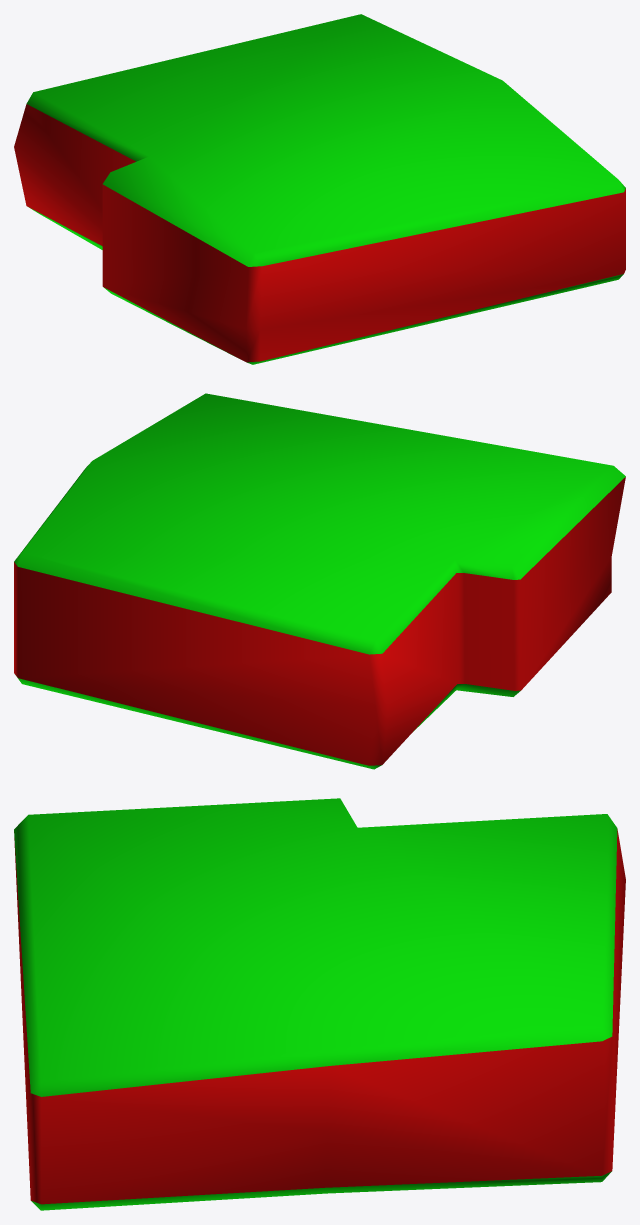
Rendered from M_Ressource_Block_C.FBX.
The picture shows the model from 3 angles, top to bottom: view 1: azimuth 30°, elevation 25°; view 2: azimuth 150°, elevation 25°; view 3: azimuth 270°, elevation 25°; orthographic projection. The views are drawn at different scales.
Parts seen in each view (by area): view 1: Ressource_Block_C; view 2: Ressource_Block_C; view 3: Ressource_Block_C.
Boxes of the visible parts, bbox=[...] form: Ressource_Block_C: bbox=[14, 14, 625, 364]; Ressource_Block_C: bbox=[14, 393, 625, 769]; Ressource_Block_C: bbox=[14, 798, 625, 1210].
Bounding box in the file's own units: 199 × 55.89 × 195.
